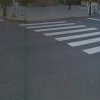crosswalk: (20, 20, 100, 54)
